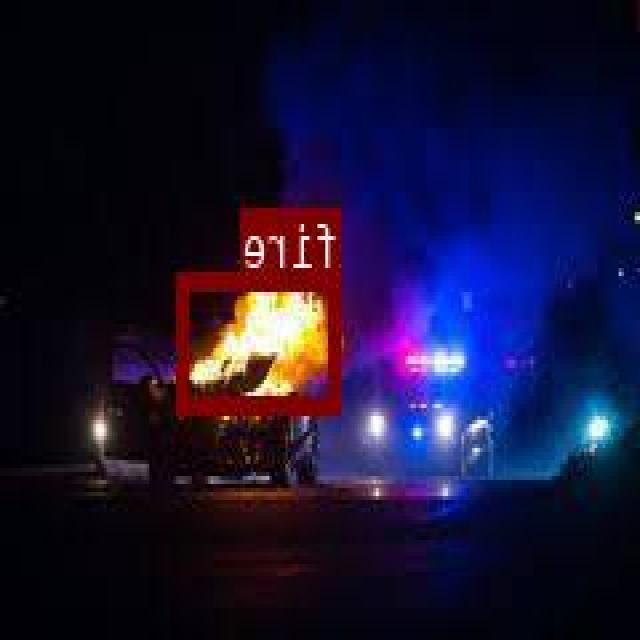fire: (180, 270, 342, 412)
